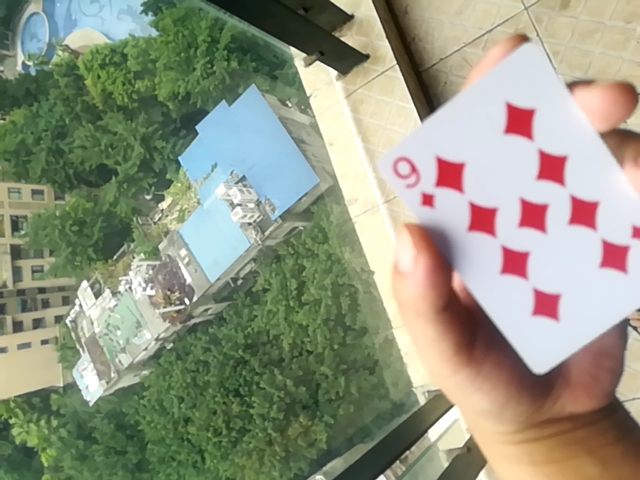fk 9: (376, 32, 639, 380)
